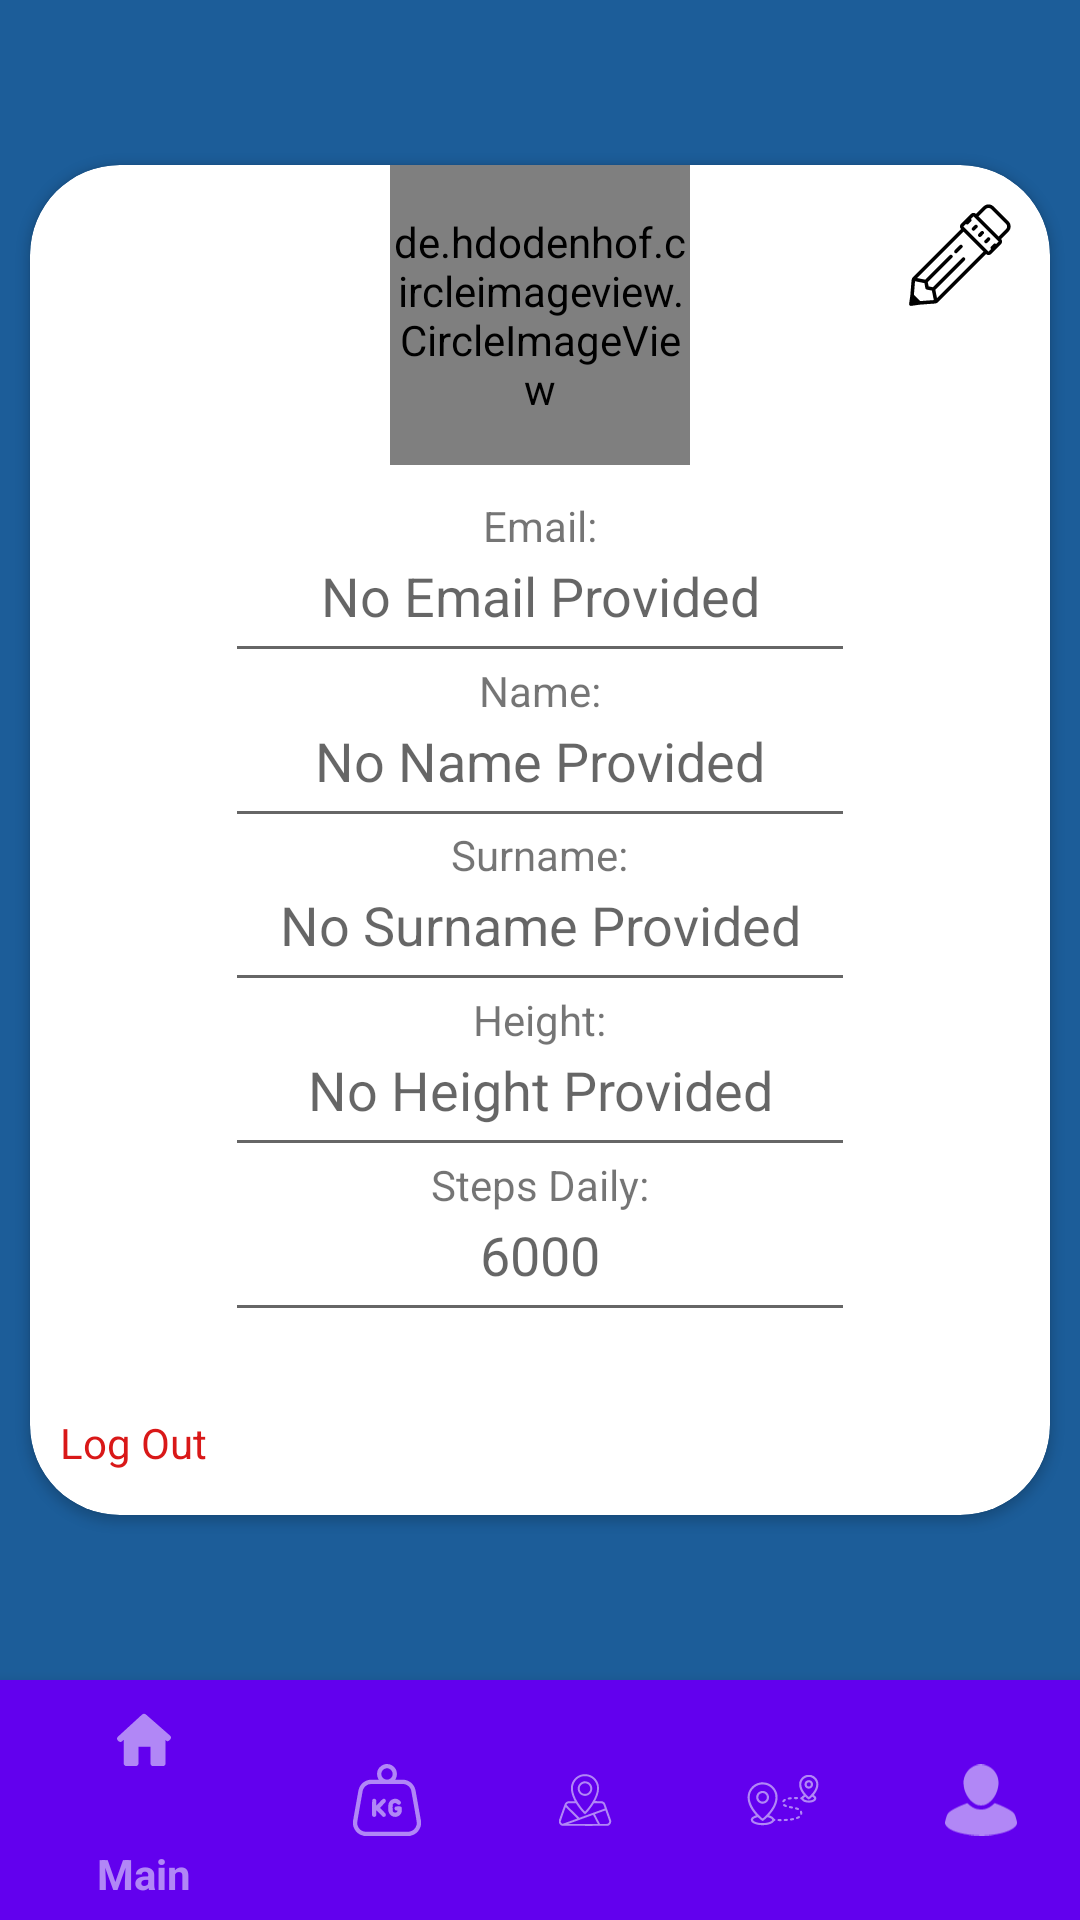

Named icons in this screenshot (1080w x 1920h) and their centers, (x,y):
pen: (960,255)
